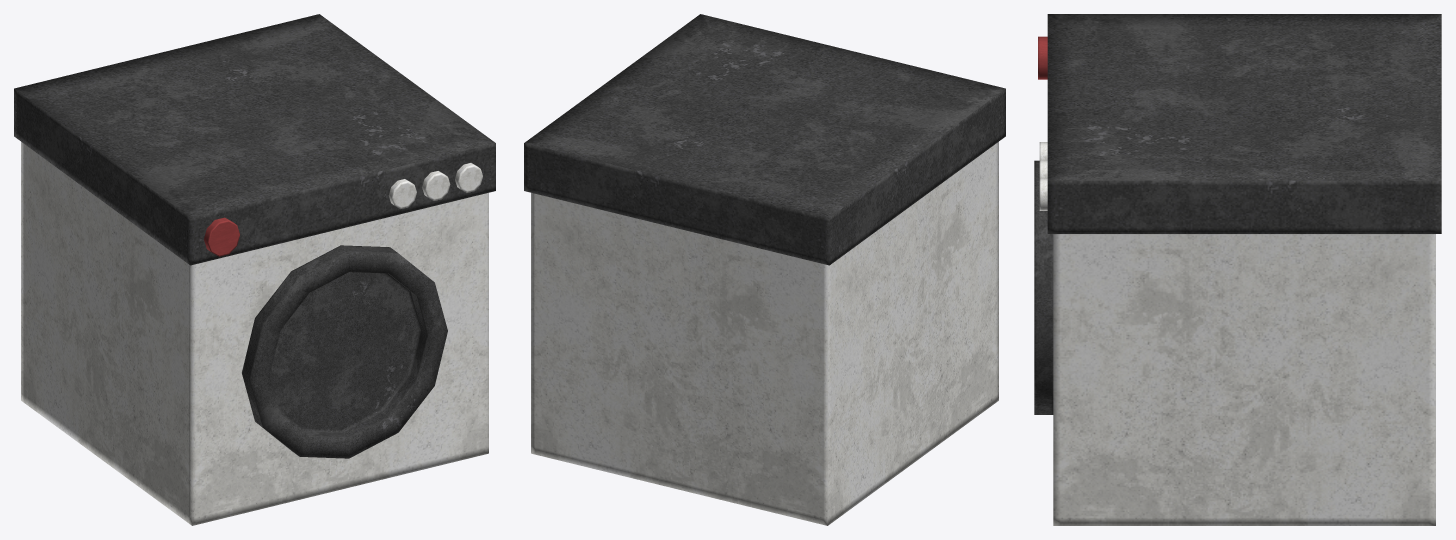
File: washing.machibe.fbx
3 views of the same model, side by side, from view 1: azimuth 30°, elevation 25°; view 2: azimuth 150°, elevation 25°; view 3: azimuth 270°, elevation 25° (orthographic). The views are drawn at different scales.
Visible parts, largest first — view 1: Base, Cylinder, Button.004, Button.001, Button.002, Button.003; view 2: Base; view 3: Base, Cylinder.
Boxes of the visible parts, x1,y1,x2,y2 form: Base: [14, 14, 495, 525]; Cylinder: [242, 245, 447, 458]; Button.004: [204, 217, 239, 256]; Button.001: [455, 163, 482, 192]; Button.002: [422, 171, 450, 200]; Button.003: [388, 179, 416, 208]; Base: [524, 14, 1005, 525]; Base: [1047, 14, 1441, 525]; Cylinder: [1034, 160, 1053, 414].
Size of the model in its own units: 123 by 120 by 128.
